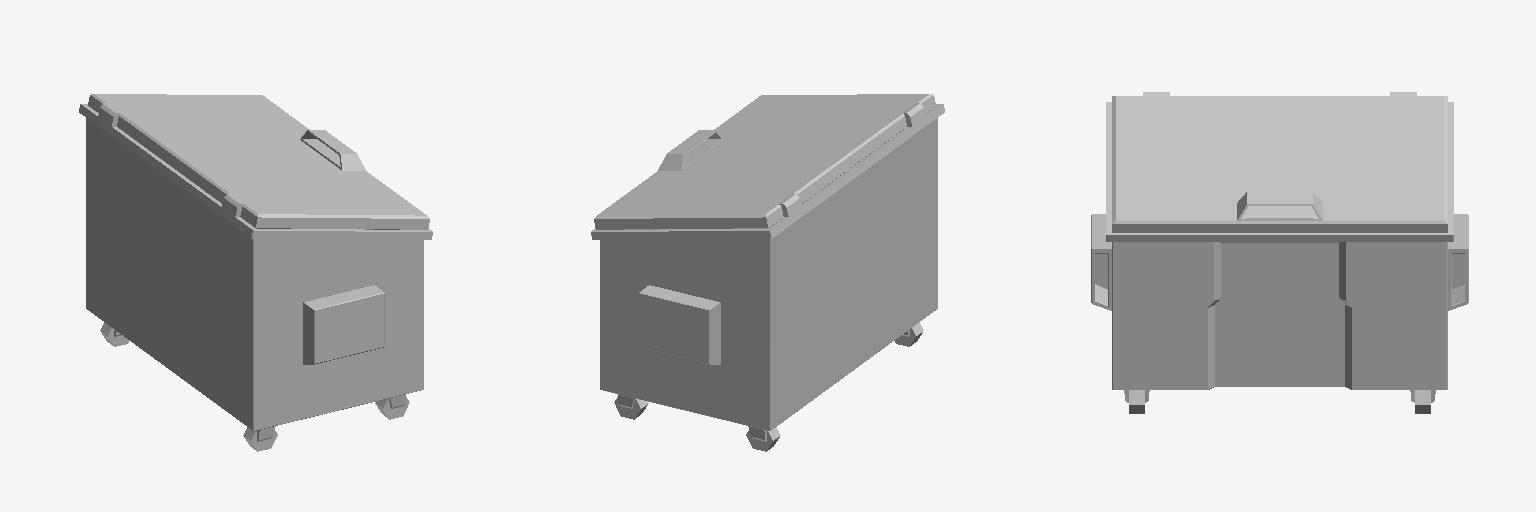
The model's file is trashbox_Low.obj.
3 views of the same model, side by side, from view 1: azimuth 30°, elevation 25°; view 2: azimuth 150°, elevation 25°; view 3: azimuth 270°, elevation 25° (orthographic).
Visible parts, largest first — view 1: Low; view 2: Low; view 3: Low.
Part boxes in pixels (left/top/right/bottom): Low: left=79, top=94, right=432, bottom=451; Low: left=591, top=94, right=944, bottom=451; Low: left=1091, top=92, right=1468, bottom=413.
Bounding box in the file's own units: 3.72 × 4.8 × 6.68.